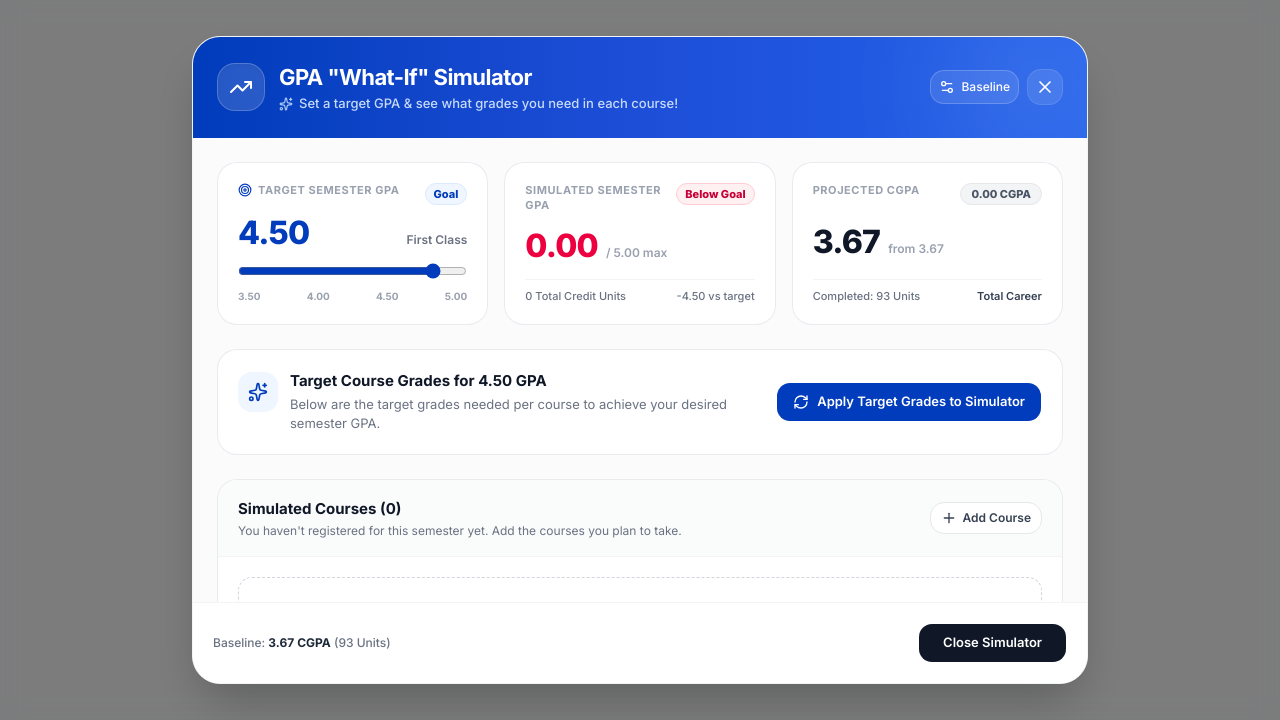
GPAWhatIfSimulator courses › lets the student add courses before they register
Expected: the text "haven't registered for this semester yet" is shown, [238, 523, 682, 538]
What coordinates should you click on to do the following:
click the button "Add Course"
I would click on:
 (986, 518)
Its box is [930, 502, 1042, 534].
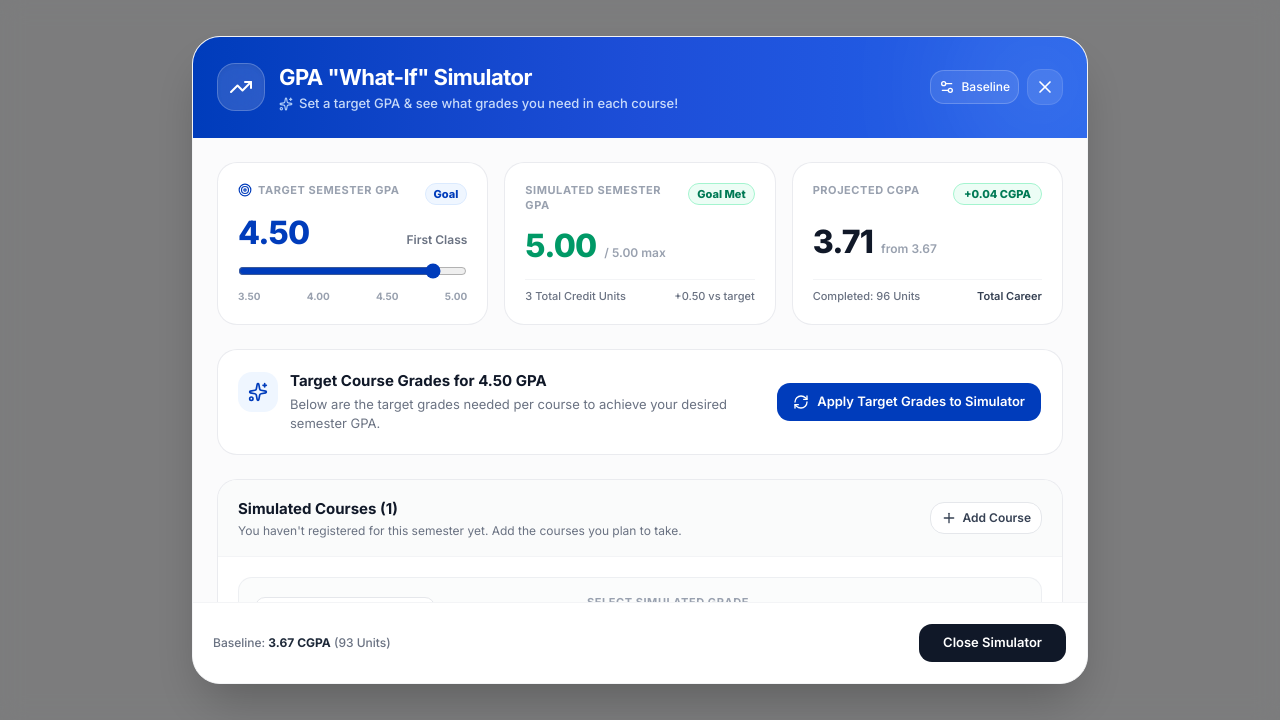
Now the text "Simulated Courses (1)" is shown, box [238, 498, 398, 518]
